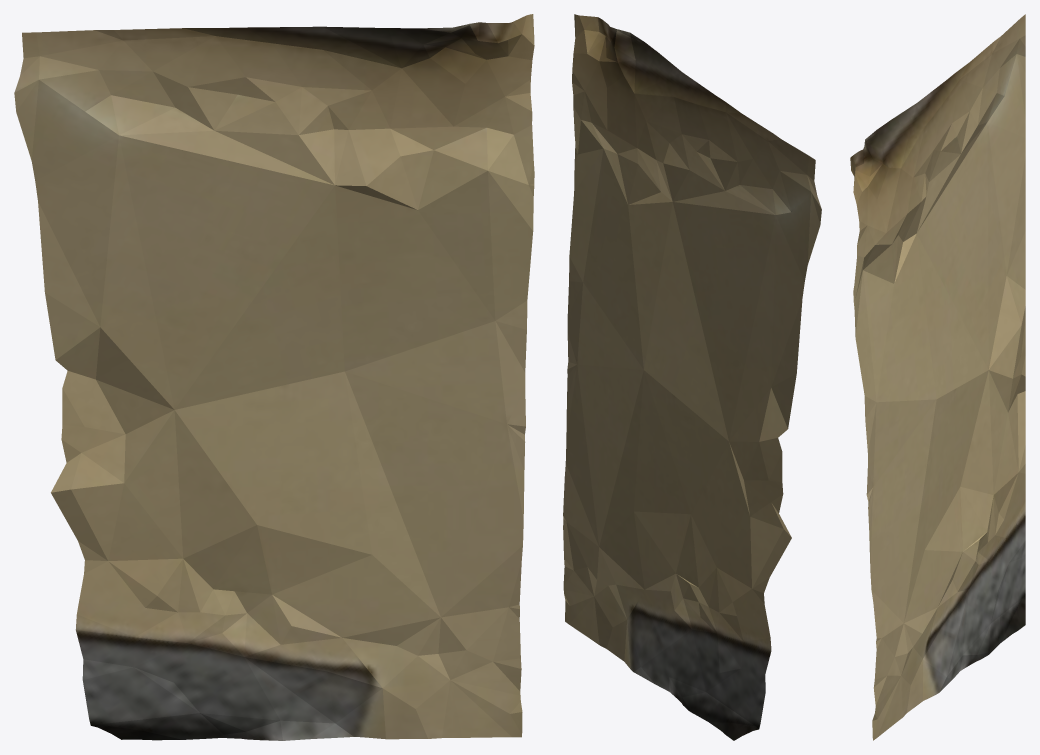
3 views of the same model, side by side, from view 1: azimuth 30°, elevation 25°; view 2: azimuth 150°, elevation 25°; view 3: azimuth 270°, elevation 25° (orthographic). The views are drawn at different scales.
Size of the model in its own units: 0.983 by 1.67 by 0.4646.
Materials: 2 (2 with a texture image).
